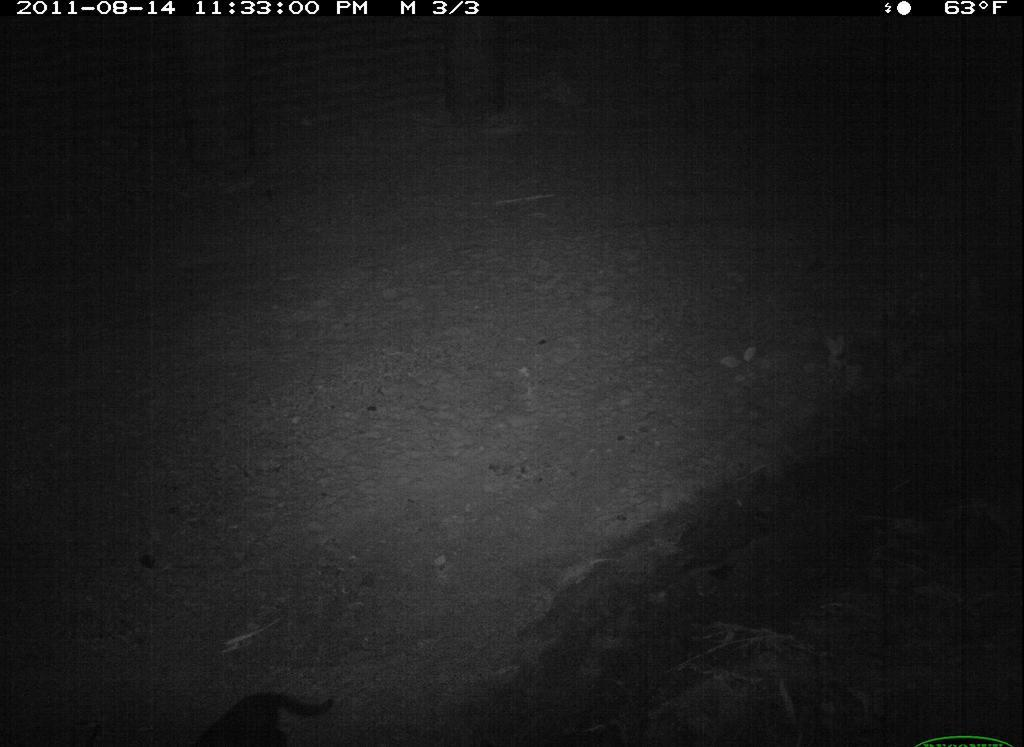cat: (158, 676, 361, 745)
